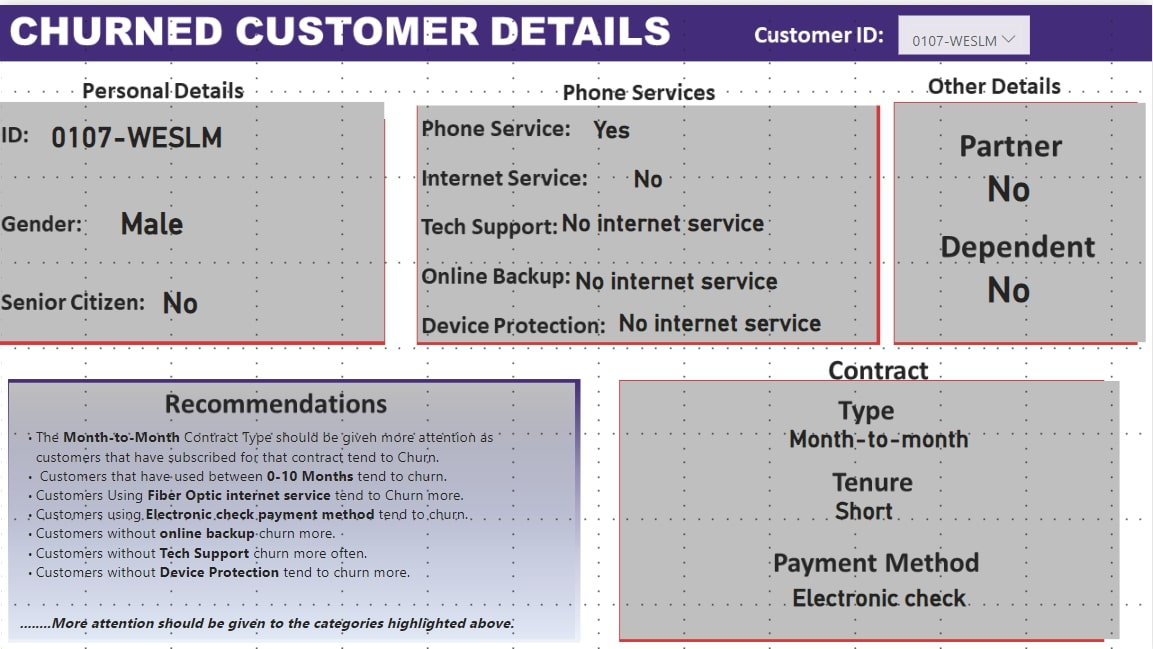

The dashboard page shown, as its layout file describes it:
{"tool":"powerbi","page":{"name":"Churned Customer Details","canvas":[1280,720],"ordinal":1},"visuals":[{"type":"slicer","fields":{"Values":["Churned Customers.customerID"]},"box":[998,11,146,43],"z":0},{"type":"card","fields":{"Values":["Min(Churned Customers.customerID)"]},"box":[32,96,240,96],"z":1000},{"type":"card","fields":{"Values":["Min(Churned Customers.gender)"]},"box":[96,192,144,96],"z":2000},{"type":"card","fields":{"Values":["Min(Churned Customers.SeniorCitizen)"]},"box":[160,288,80,80],"z":3000},{"type":"card","fields":{"Values":["Min(Churned Customers.PhoneService)"]},"box":[624,96,112,80],"z":4000},{"type":"card","fields":{"Values":["Min(Churned Customers.InternetService)"]},"box":[640,144,160,96],"z":5000},{"type":"card","fields":{"Values":["Min(Churned Customers.TechSupport)"]},"box":[608,208,256,64],"z":6000},{"type":"card","fields":{"Values":["Min(Churned Customers.OnlineBackup)"]},"box":[624,256,256,96],"z":7000},{"type":"card","fields":{"Values":["Min(Churned Customers.DeviceProtection)"]},"box":[672,304,256,96],"z":8000},{"type":"card","fields":{"Values":["Min(Churned Customers.Partner)"]},"box":[1056,160,128,80],"z":9000},{"type":"card","fields":{"Values":["Min(Churned Customers.Dependents)"]},"box":[1056,272,128,80],"z":10000},{"type":"card","fields":{"Values":["Min(Churned Customers.PaymentMethod)"]},"box":[848,608,256,96],"z":11000},{"type":"card","fields":{"Values":["Min(Churned Customers.Tenure Category)"]},"box":[832,512,256,96],"z":12000},{"type":"card","fields":{"Values":["Min(Churned Customers.Contract)"]},"box":[848,432,256,96],"z":13000},{"type":"textbox","box":[16,464,608,240],"z":14000}]}

Visuals, with their boxes in screenshot pixels (x1, y1, x2, y2), scaled from the page's 1280x720 canvas onto the 1153x649 screenshot:
slicer - Churned Customers.customerID: rect(899, 10, 1030, 49)
card - Min(Churned Customers.customerID): rect(29, 87, 245, 173)
card - Min(Churned Customers.gender): rect(86, 173, 216, 260)
card - Min(Churned Customers.SeniorCitizen): rect(144, 260, 216, 332)
card - Min(Churned Customers.PhoneService): rect(562, 87, 663, 159)
card - Min(Churned Customers.InternetService): rect(576, 130, 721, 216)
card - Min(Churned Customers.TechSupport): rect(548, 187, 778, 245)
card - Min(Churned Customers.OnlineBackup): rect(562, 231, 793, 317)
card - Min(Churned Customers.DeviceProtection): rect(605, 274, 836, 361)
card - Min(Churned Customers.Partner): rect(951, 144, 1067, 216)
card - Min(Churned Customers.Dependents): rect(951, 245, 1067, 317)
card - Min(Churned Customers.PaymentMethod): rect(764, 548, 994, 635)
card - Min(Churned Customers.Tenure Category): rect(749, 462, 980, 548)
card - Min(Churned Customers.Contract): rect(764, 389, 994, 476)
textbox: rect(14, 418, 562, 635)
